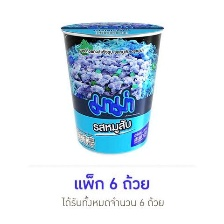paper_cup: (55, 16, 168, 158)
